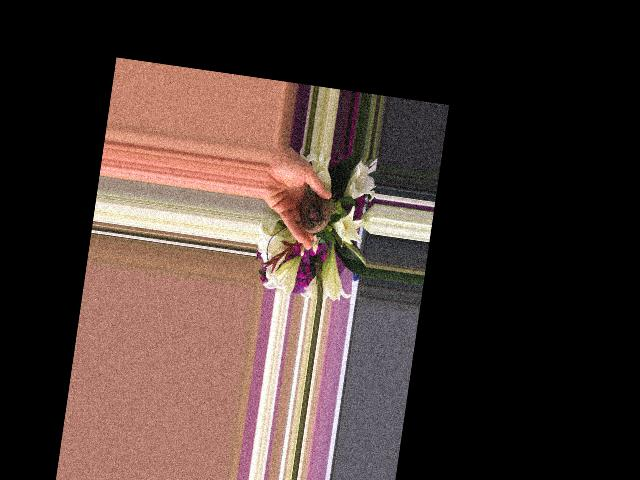beet: (295, 192, 333, 236)
